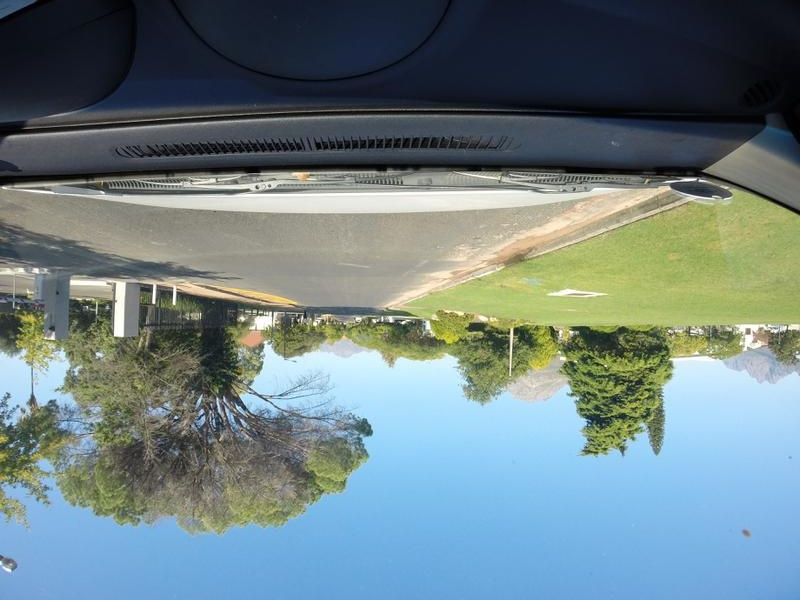pothole: (422, 237, 485, 262)
